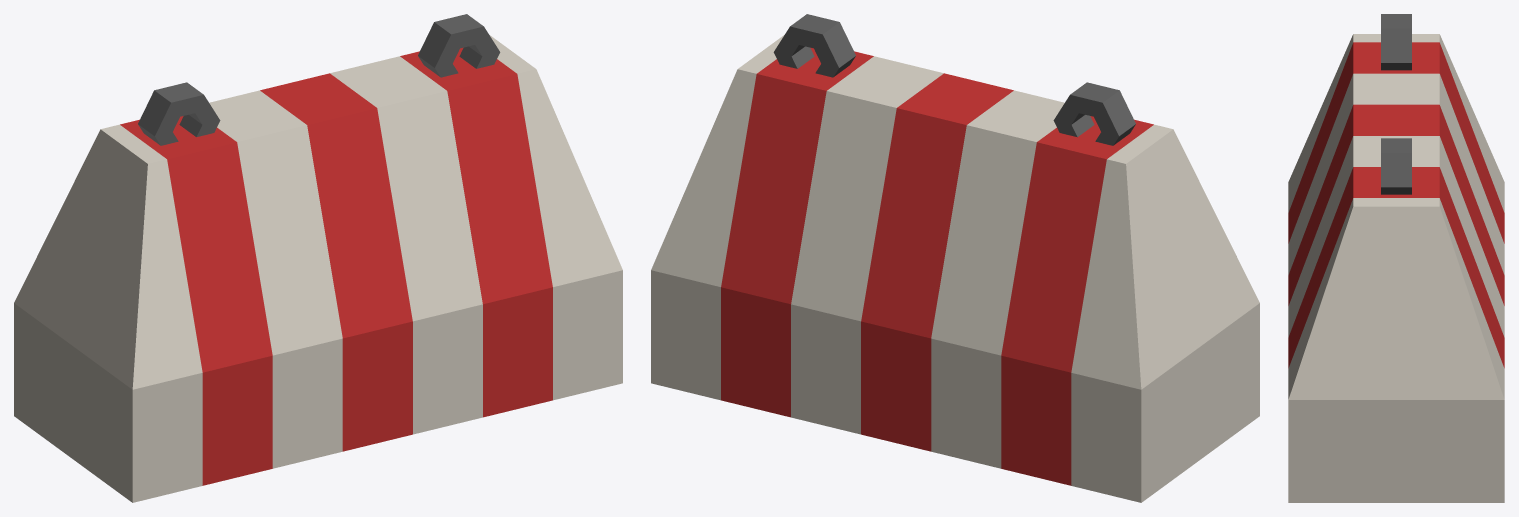
File: RoadBlock.glb
The picture shows the model from 3 angles, left to right: view 1: azimuth 30°, elevation 25°; view 2: azimuth 150°, elevation 25°; view 3: azimuth 270°, elevation 25°; orthographic projection. The views are drawn at different scales.
Visible parts, largest first — view 1: Road_Barrier; view 2: Road_Barrier; view 3: Road_Barrier.
Part boxes in pixels (x1,y1,x2,y2): Road_Barrier: [14, 14, 622, 502]; Road_Barrier: [651, 14, 1259, 502]; Road_Barrier: [1288, 14, 1504, 502].
Size of the model in its own units: 2.28 by 1.52 by 0.9548.
1 material, 1 textured.
